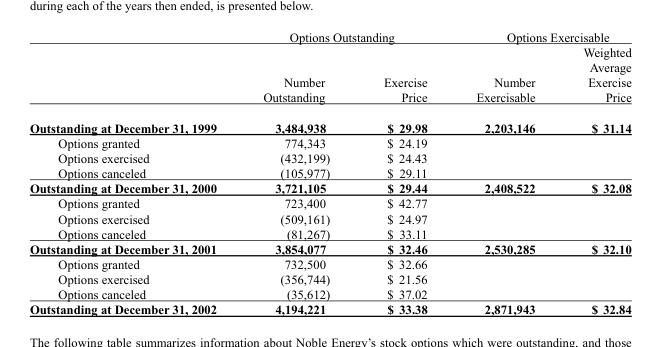table: (28, 29, 630, 316)
table column: (28, 29, 239, 316), (239, 29, 356, 316), (451, 29, 558, 316), (356, 29, 451, 316), (558, 29, 630, 316)
table column header: (28, 29, 630, 112)
table row: (28, 44, 630, 112), (28, 112, 630, 134), (28, 134, 630, 150), (28, 240, 630, 256), (28, 29, 630, 44), (28, 150, 630, 165), (28, 165, 630, 180), (28, 180, 630, 195), (28, 195, 630, 210), (28, 210, 630, 225), (28, 225, 630, 240), (28, 256, 630, 271), (28, 271, 630, 286), (28, 286, 630, 301), (28, 301, 630, 316)
table spanning cell: (239, 29, 451, 44), (451, 29, 630, 44)
